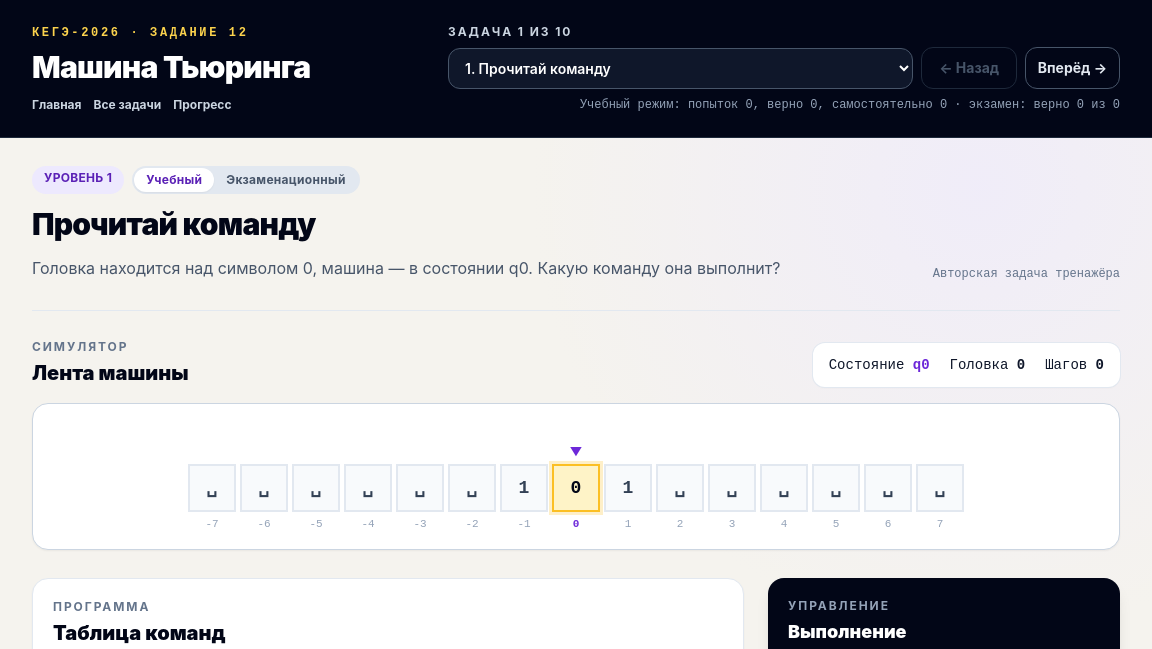
Scenario: навигация приложения › переключает задачи без прокручиваемой горизонтальной ленты
The width and height of the screenshot is (1152, 649).
Expected: the dropdown named "Выбрать задачу" shows "1. Прочитай команду", x1=448 y1=48 x2=913 y2=89
Expected: the button with aria-label "Предыдущая задача" is disabled, x1=921 y1=47 x2=1017 y2=89
Click the button with aria-label "Следующая задача". click: (1072, 68)
box: x1=1025 y1=47 x2=1120 y2=89
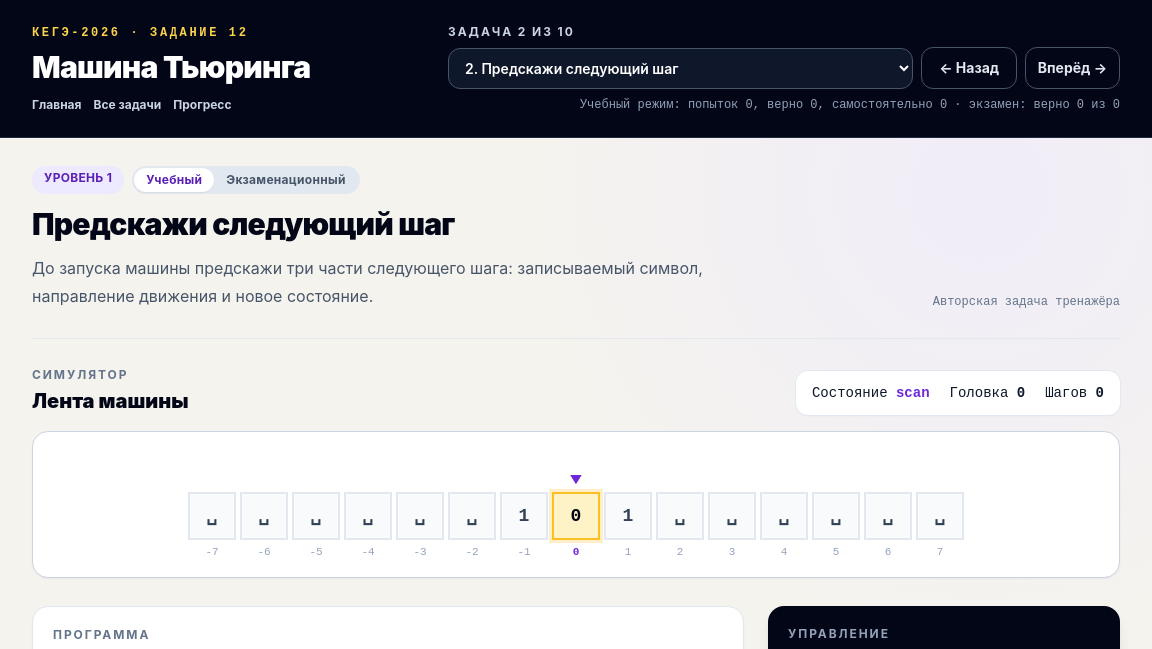
Expected: the heading "Предскажи следующий шаг" is shown, x1=32 y1=206 x2=455 y2=242
Expected: the dropdown named "Выбрать задачу" shows "2. Предскажи следующий шаг"
Expected: the button with aria-label "Предыдущая задача" is enabled, x1=921 y1=47 x2=1017 y2=89
Select "10. Каждая вторая единица" in the dropdown named "Выбрать задачу". click: (681, 68)
box: x1=448 y1=48 x2=913 y2=89
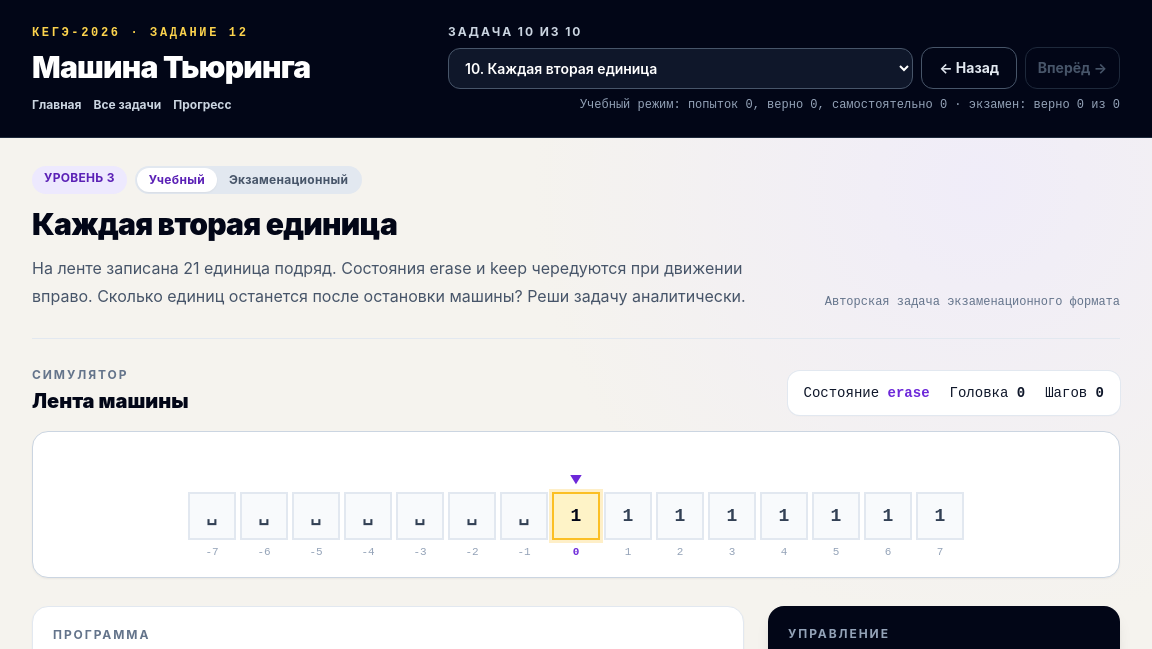
Expected: the heading "Каждая вторая единица" is shown, x1=32 y1=206 x2=397 y2=242
Expected: the button with aria-label "Следующая задача" is disabled, x1=1025 y1=47 x2=1120 y2=89
Click the button with aria-label "Предыдущая задача". click: (969, 68)
box: x1=921 y1=47 x2=1017 y2=89
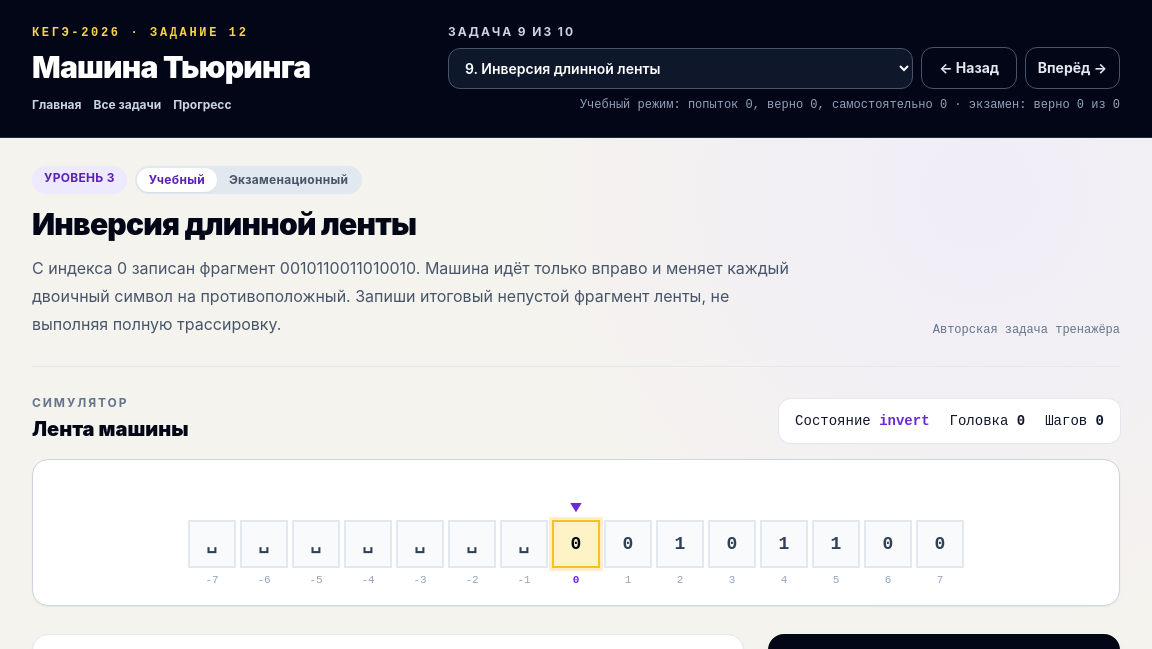
Expected: the heading "Инверсия длинной ленты" is shown, x1=32 y1=206 x2=416 y2=242
